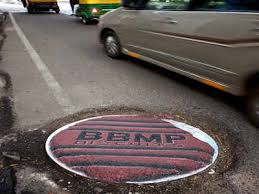manhole: (33, 93, 231, 190)
